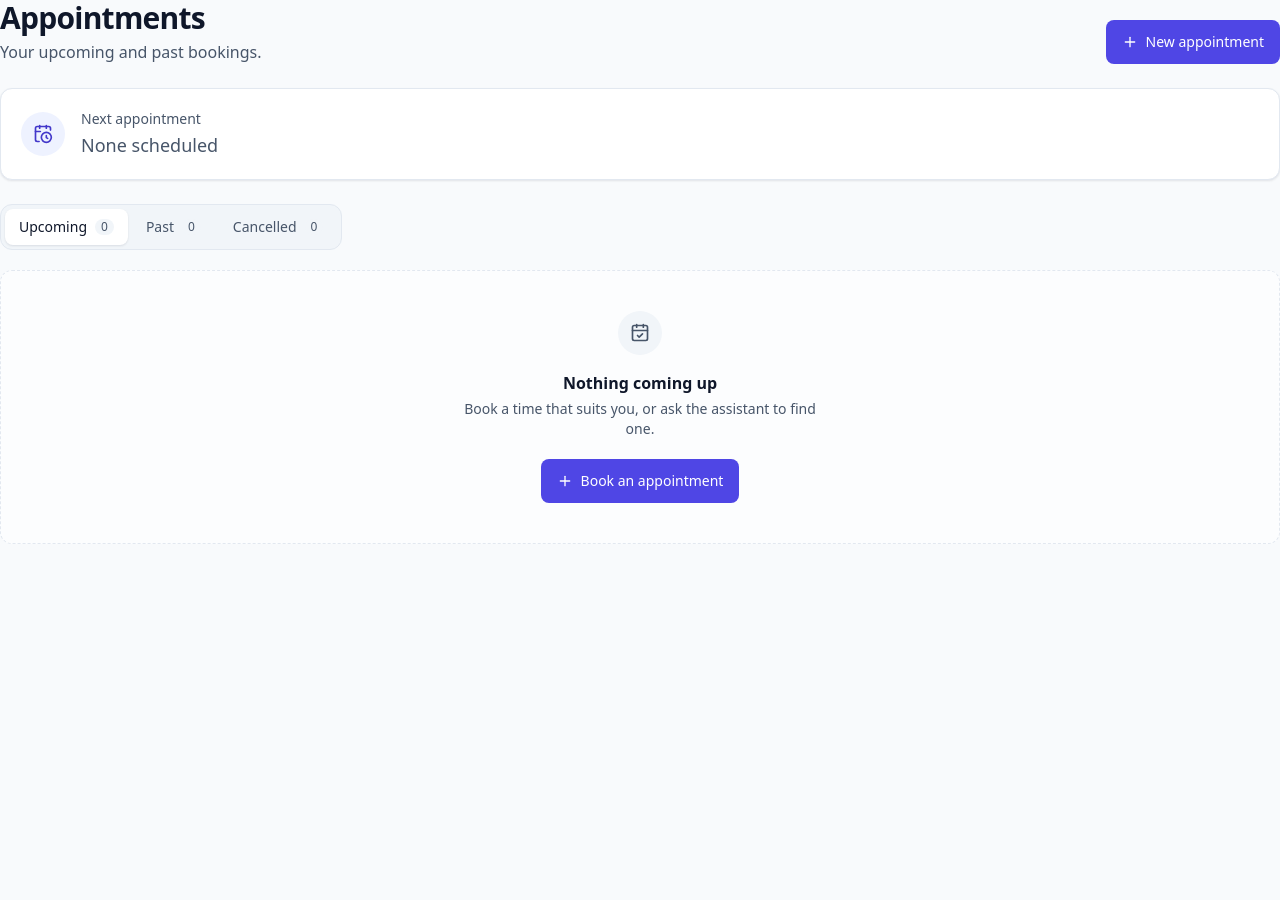
it: AppointmentsDashboard list › shows a friendly empty state per tab, with a booking shortcut on Upcoming
Expected: the text "Nothing coming up" is shown, [563,371,717,395]
Click the button "Book an appointment".
click(640, 481)  # box [541,459,740,503]
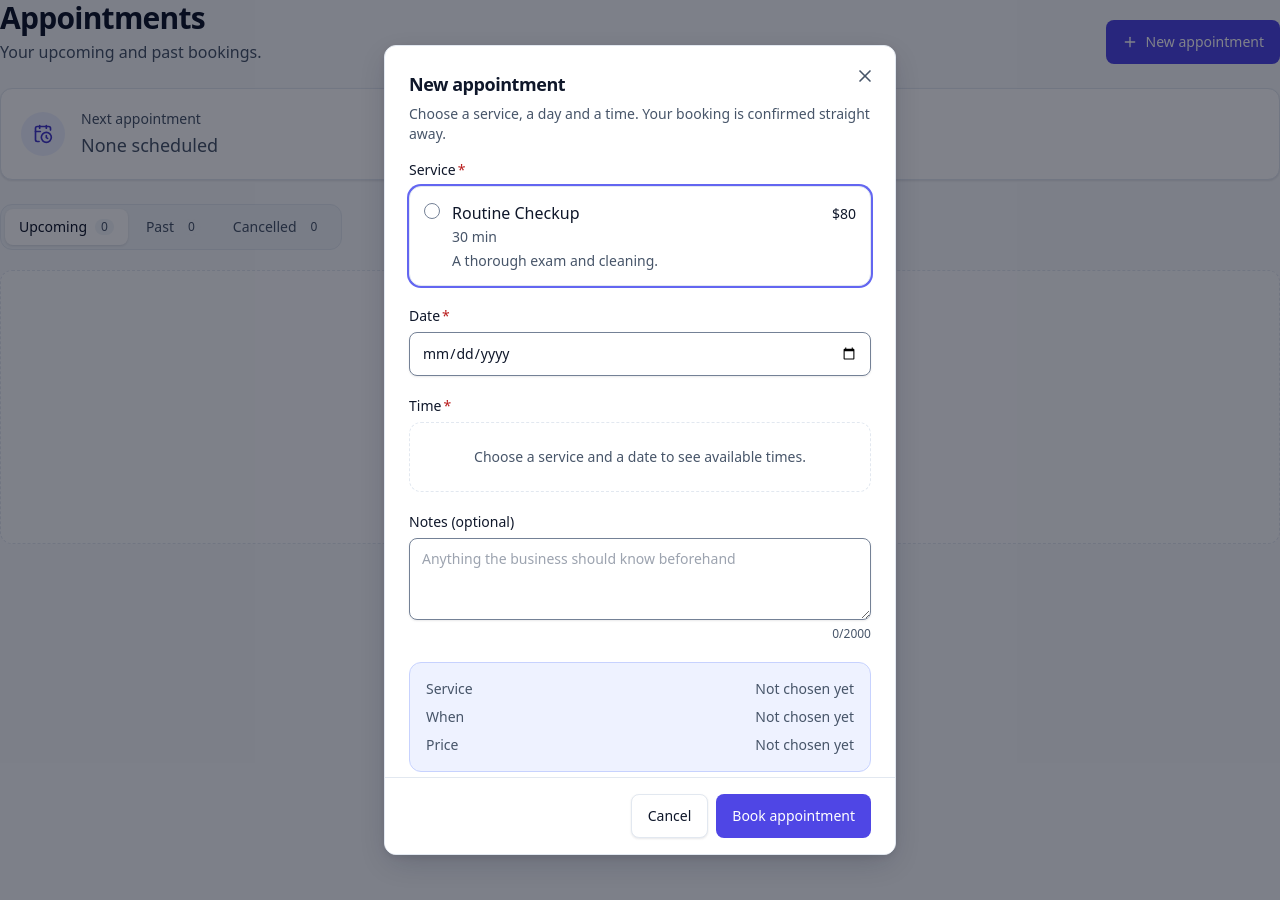
Expected: the dialog "New appointment" is shown, [384,45,896,855]
Click the button named "Close dialog".
click(865, 76)  # box [847,58,883,94]
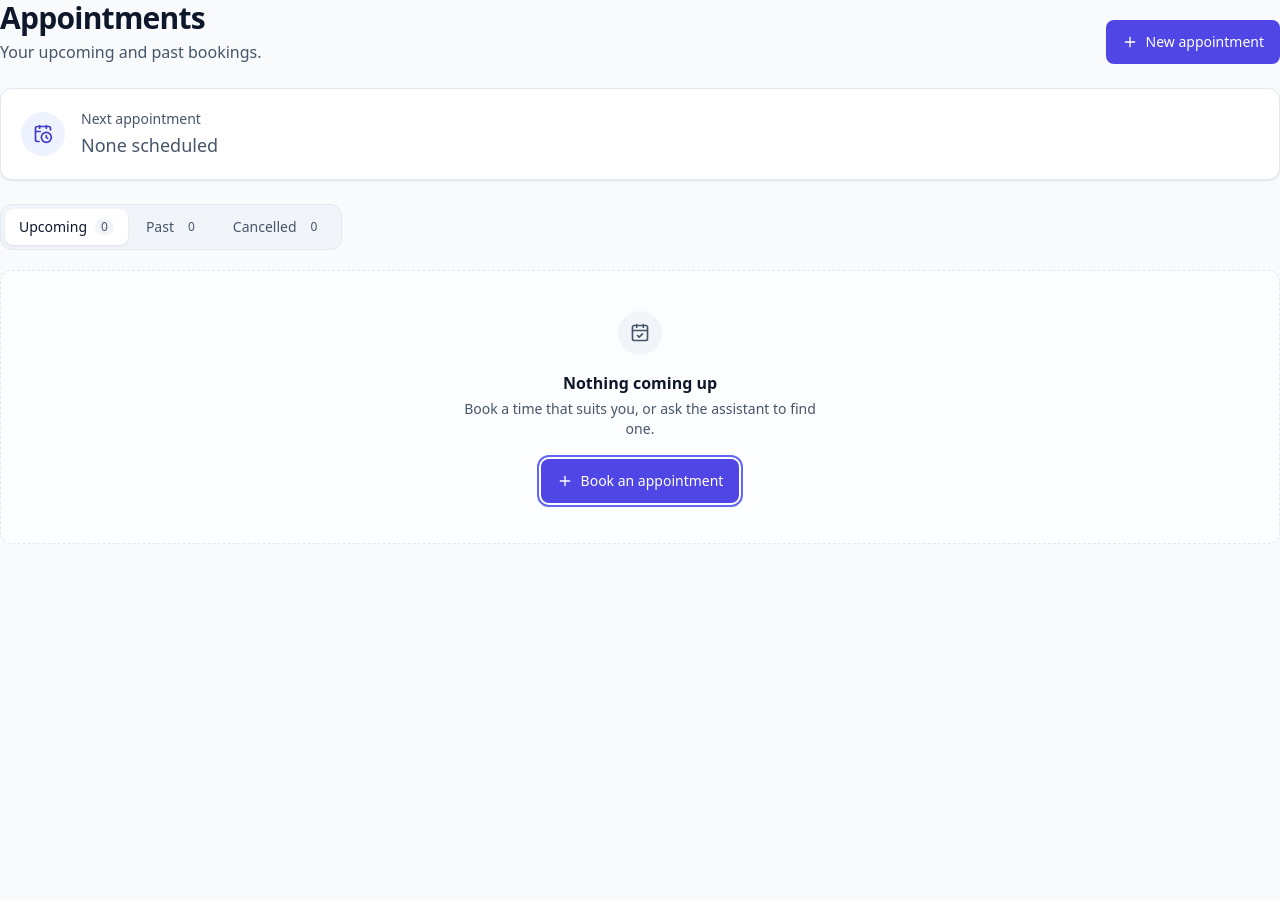
Click the tab "Past 0".
click(173, 227)  # box [132,209,215,245]
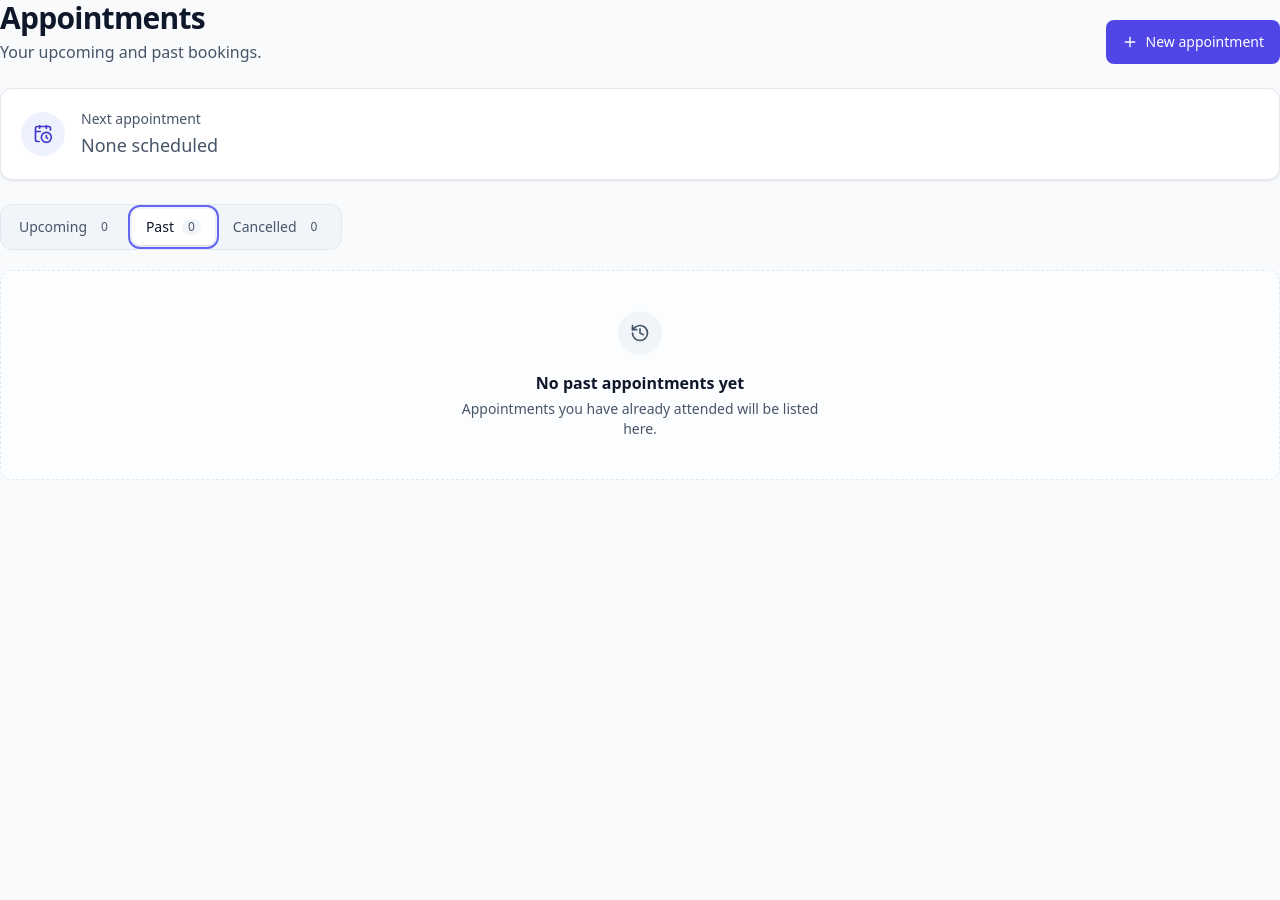
Expected: the text "No past appointments yet" is shown, [536,371,744,395]
Click the tab "Cancelled 0".
click(278, 227)  # box [219,209,337,245]
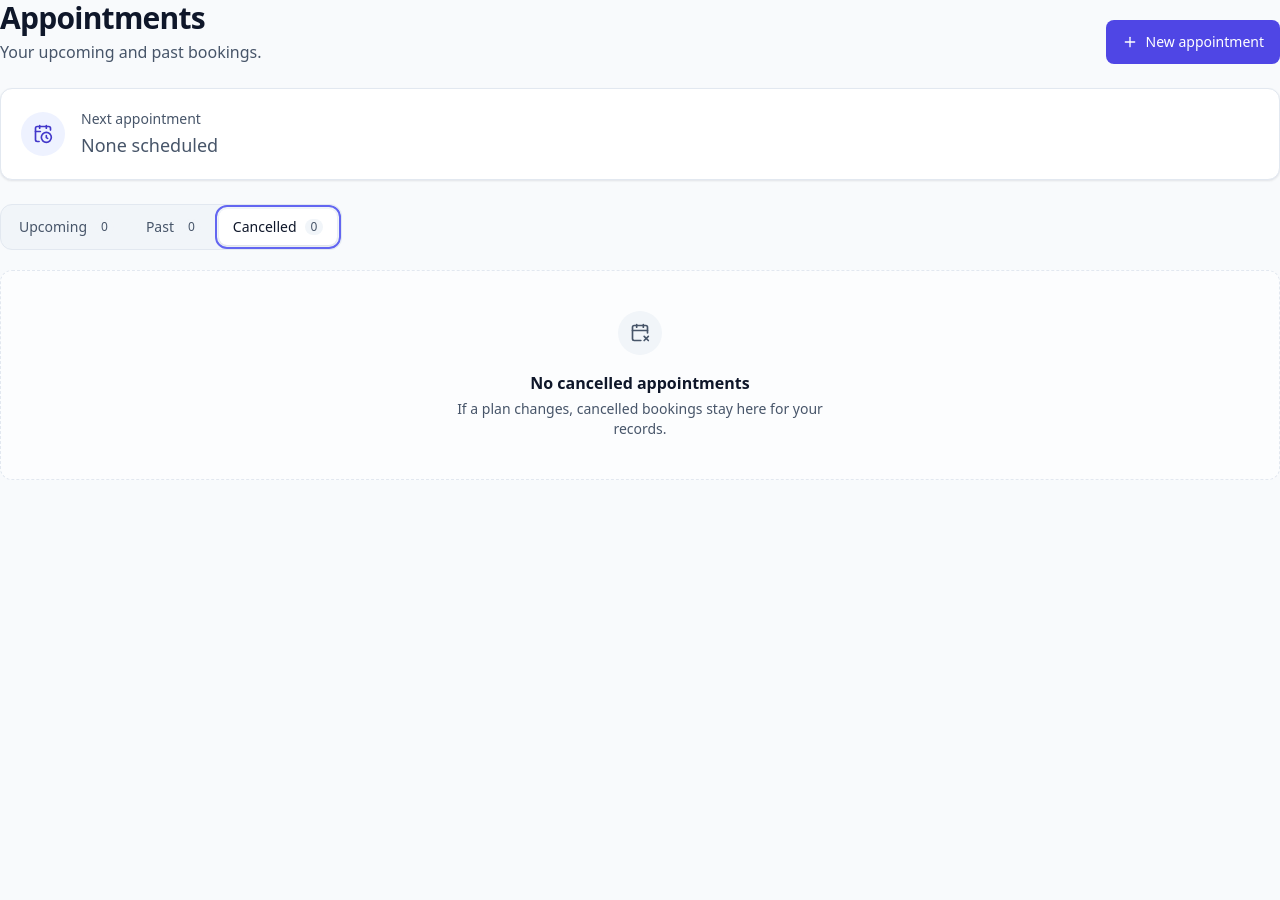
Expected: the text "No cancelled appointments" is shown, [530,371,750,395]
